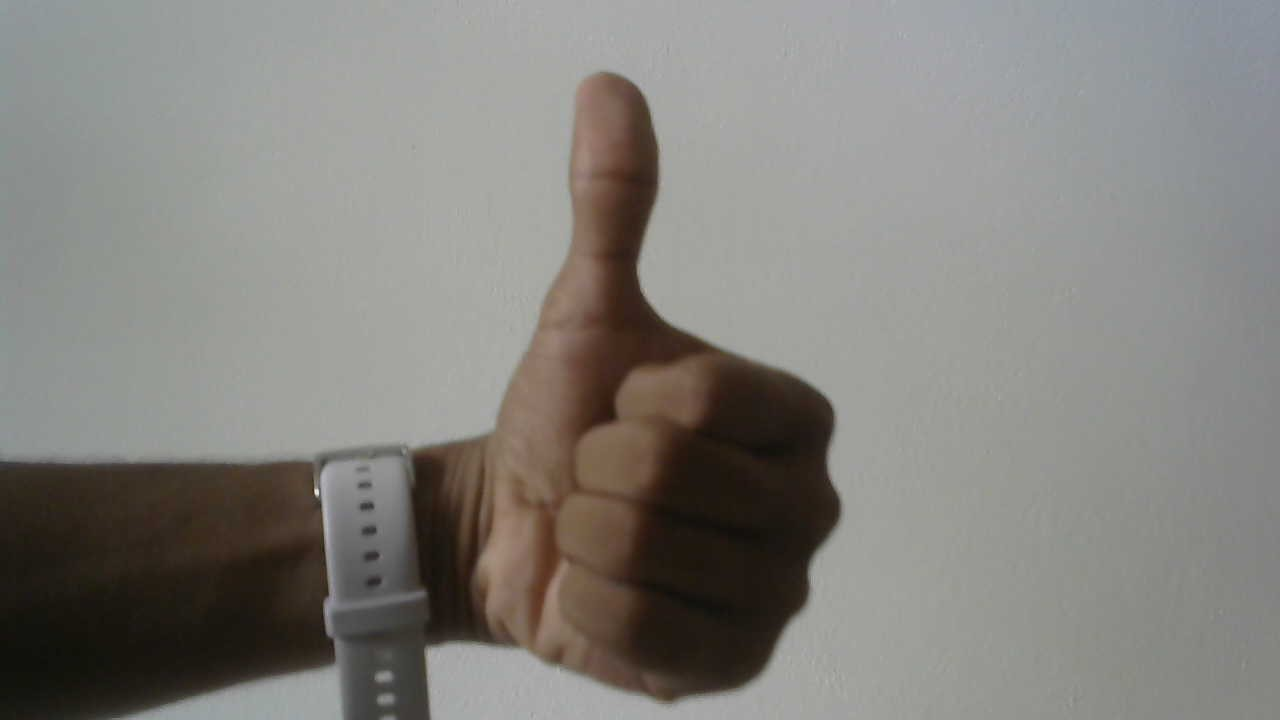thumbsup: (477, 57, 853, 710)
